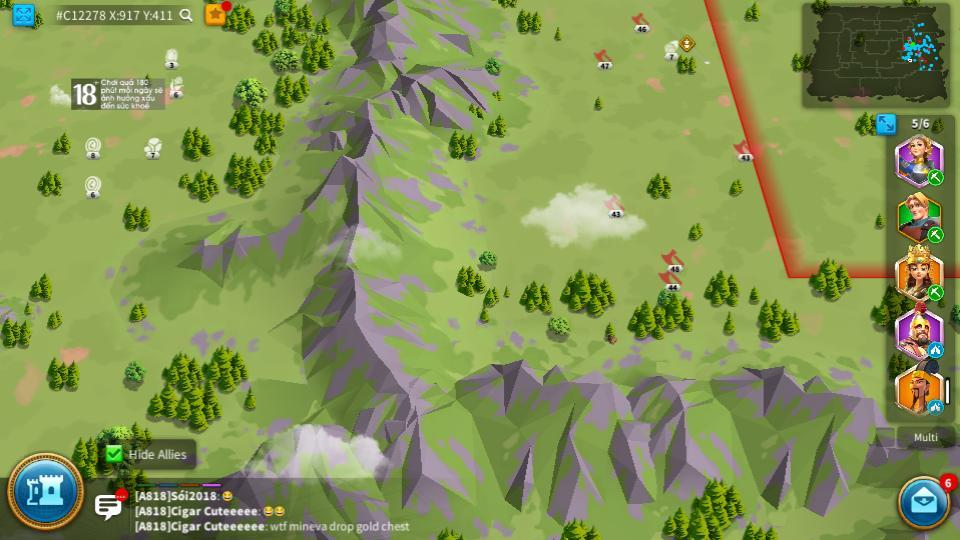gem-z-out: (162, 48, 180, 67)
march_idle: (927, 402, 944, 414), (929, 343, 942, 356), (918, 64, 932, 72)
march_marching: (928, 287, 942, 299), (929, 173, 941, 185), (929, 231, 942, 242)
